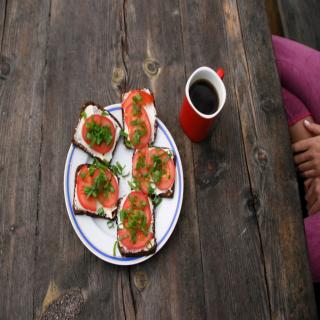Tomato: (81, 115, 115, 153), (124, 102, 152, 146), (148, 149, 174, 191), (122, 191, 151, 228), (92, 169, 119, 206), (76, 164, 97, 211), (119, 226, 153, 246)
